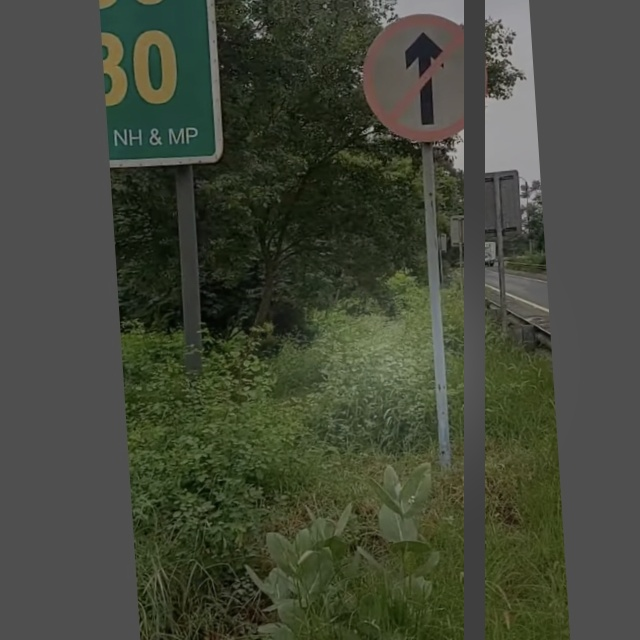No_Entry: (357, 14, 491, 146)
